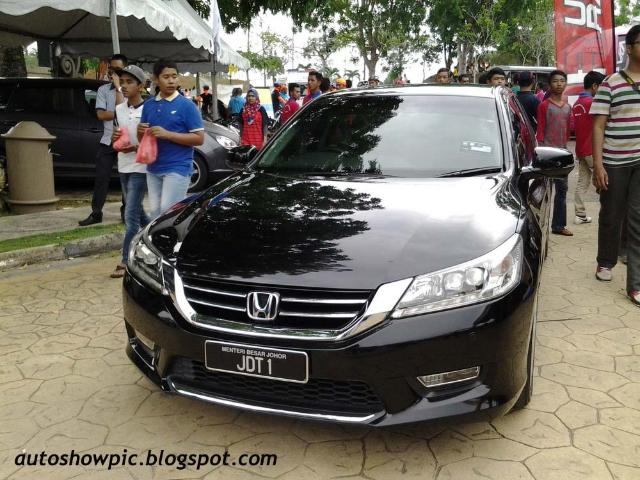License_Plate: (205, 341, 312, 385)
car: (118, 88, 549, 428)
